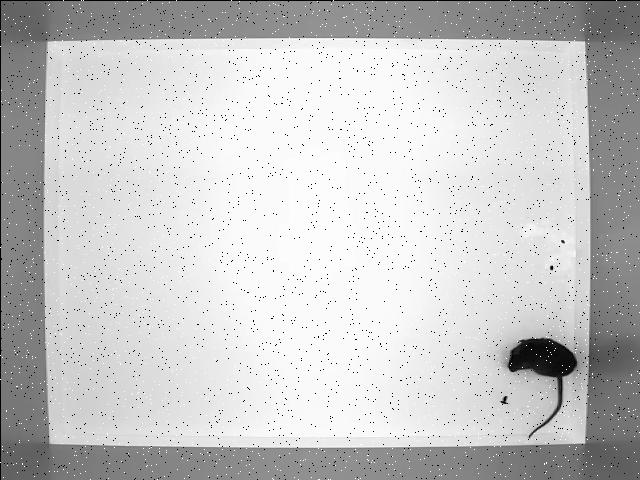Tikus: (505, 334, 580, 438)
